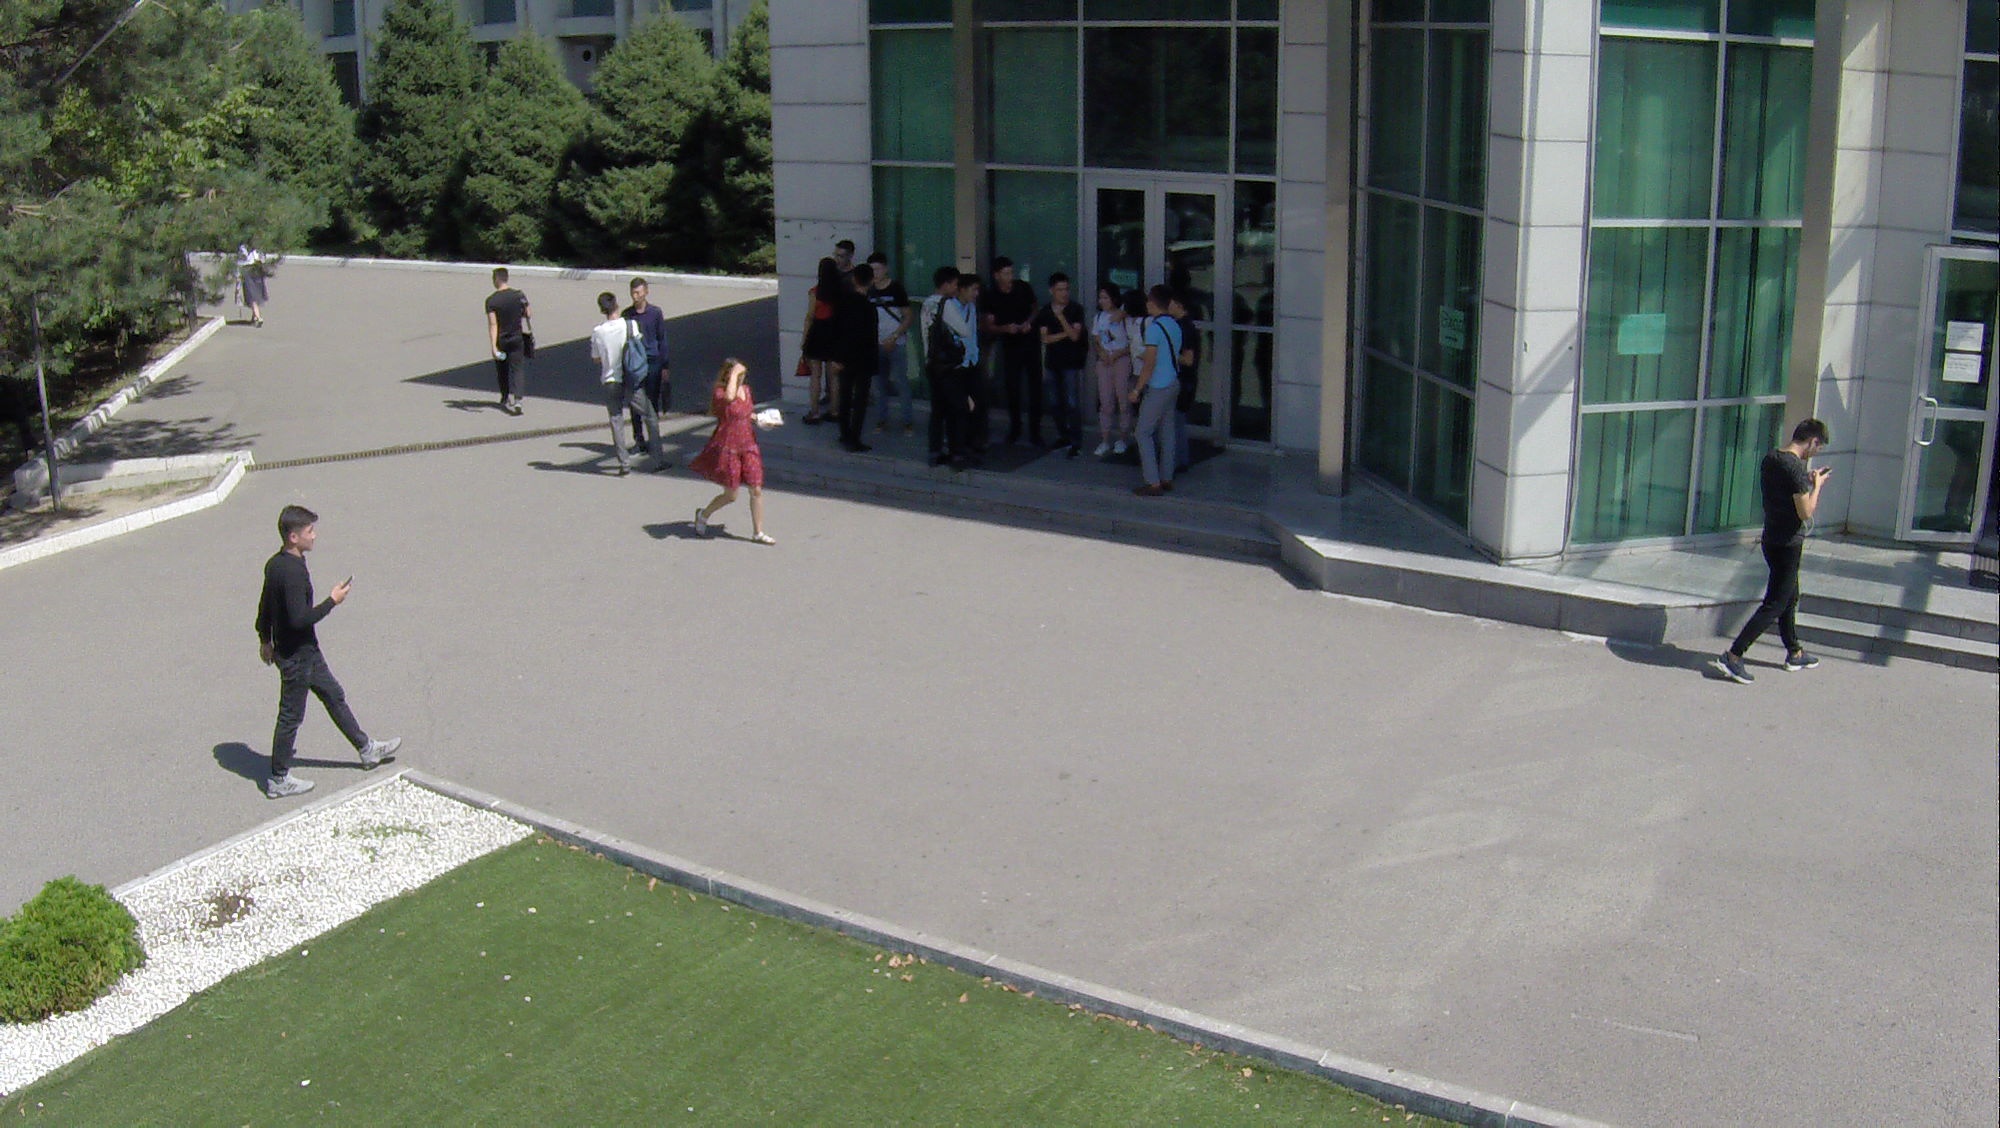person: (239, 493, 410, 826), (1709, 399, 1833, 700), (577, 287, 673, 482), (695, 353, 785, 560), (985, 249, 1048, 465), (917, 258, 980, 477), (865, 241, 922, 443), (1036, 259, 1089, 466), (474, 264, 539, 424), (1132, 284, 1178, 501), (1086, 274, 1132, 469), (617, 269, 677, 410), (836, 256, 877, 457), (802, 257, 842, 430), (1159, 287, 1200, 425), (235, 230, 274, 328)
